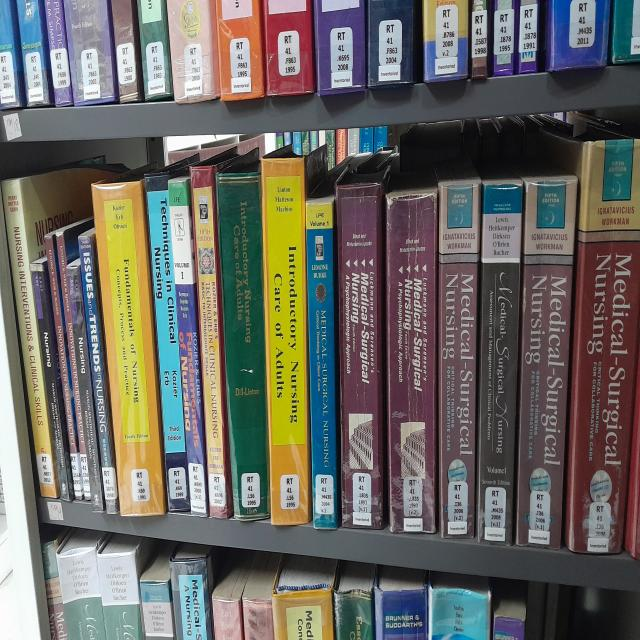book: (565, 139, 640, 553), (92, 171, 167, 517), (516, 175, 577, 549), (216, 160, 269, 520), (336, 171, 389, 529), (0, 177, 58, 500), (261, 152, 311, 525), (476, 180, 523, 541), (386, 196, 436, 533), (145, 166, 190, 511), (168, 174, 209, 516), (191, 165, 228, 518), (439, 186, 475, 537), (79, 227, 118, 514), (305, 201, 338, 529), (44, 232, 84, 500), (31, 257, 74, 500), (55, 231, 93, 503), (66, 258, 105, 512)
